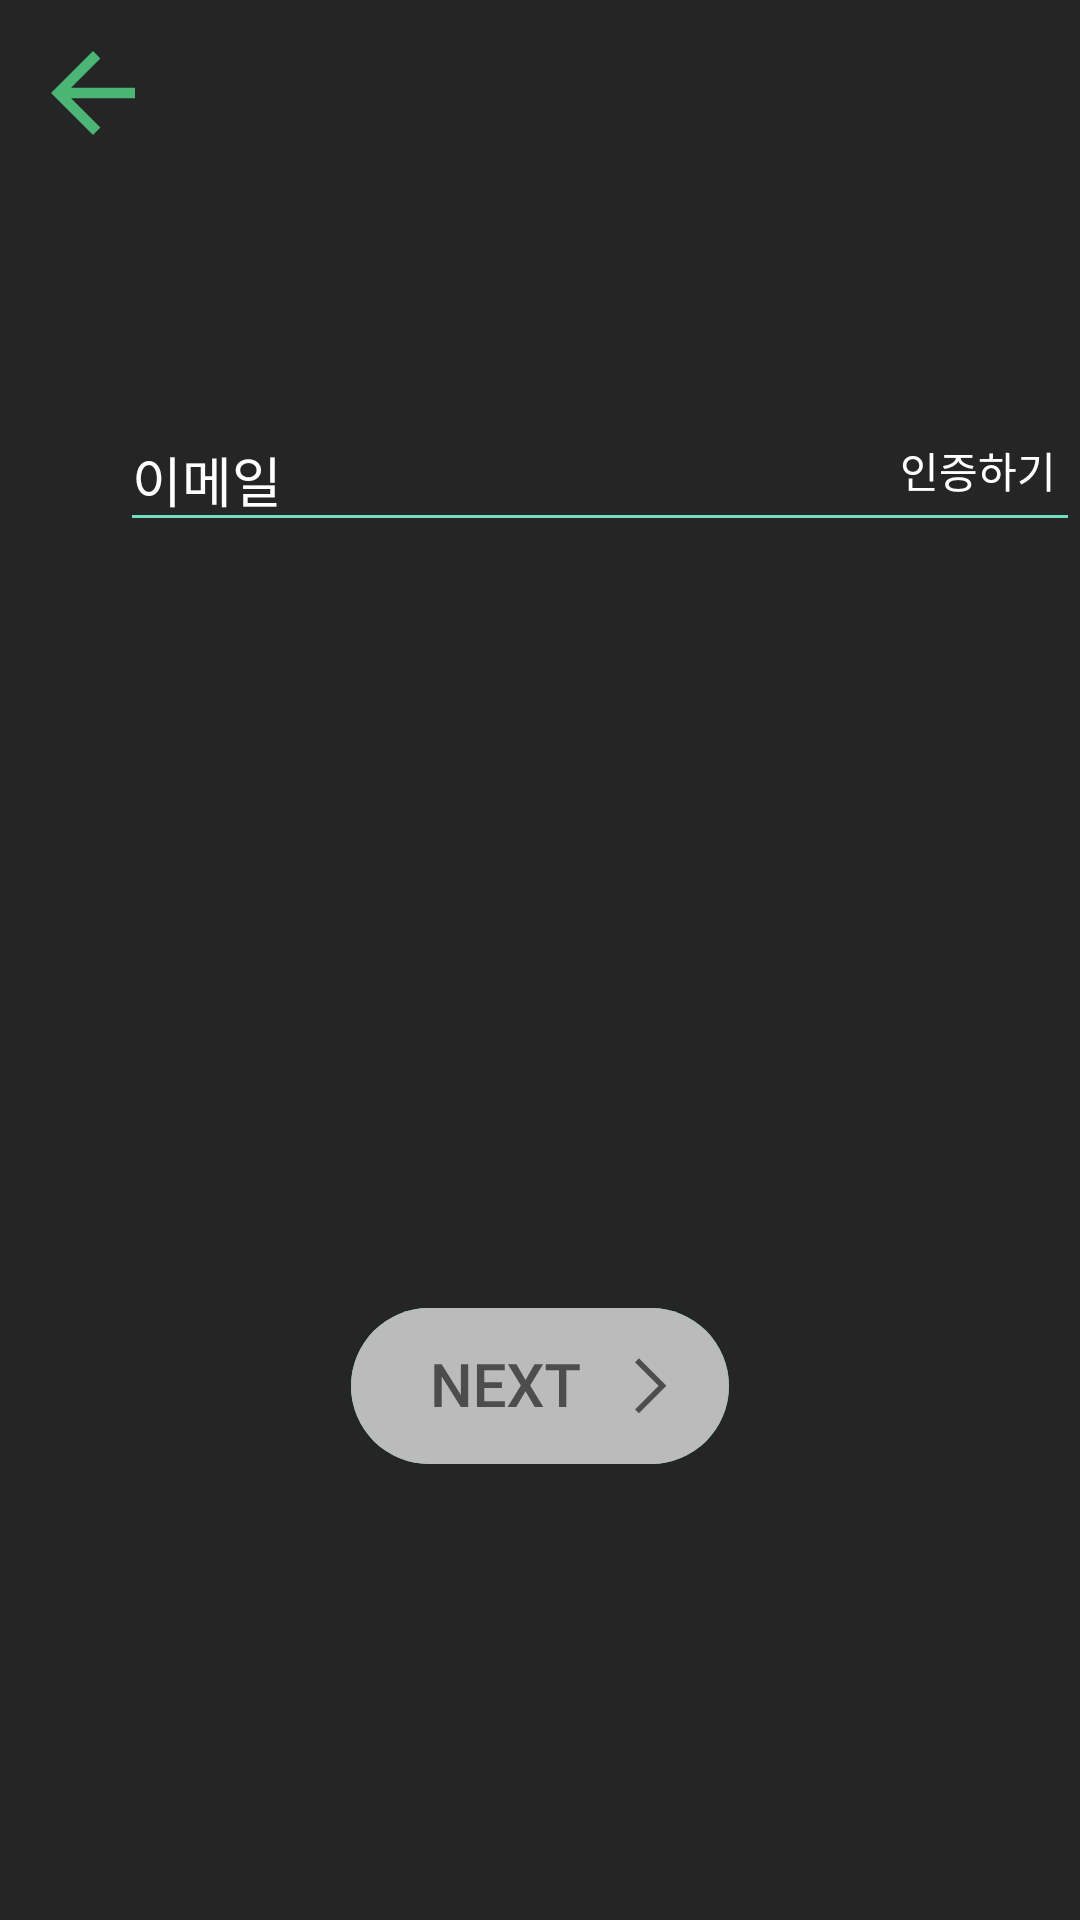

Icon click points for this 1080px×1920px phone screenshot, format (x,y):
back step arrow: (93,93)
